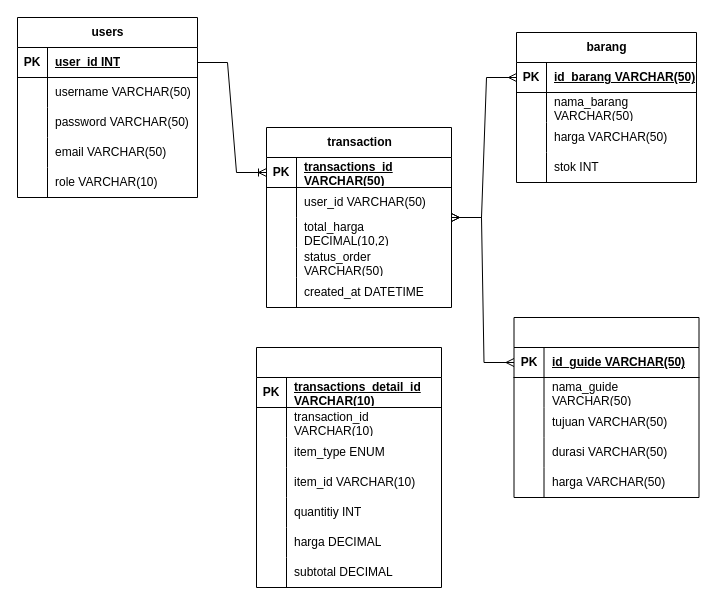
Image size: 717x605. Some labels were removed from this diagram. Here are the shapes that lost their labels. From the top down, the box of each, then its label:
(513, 316, 699, 498): tour
(256, 346, 442, 588): transaction_detail
